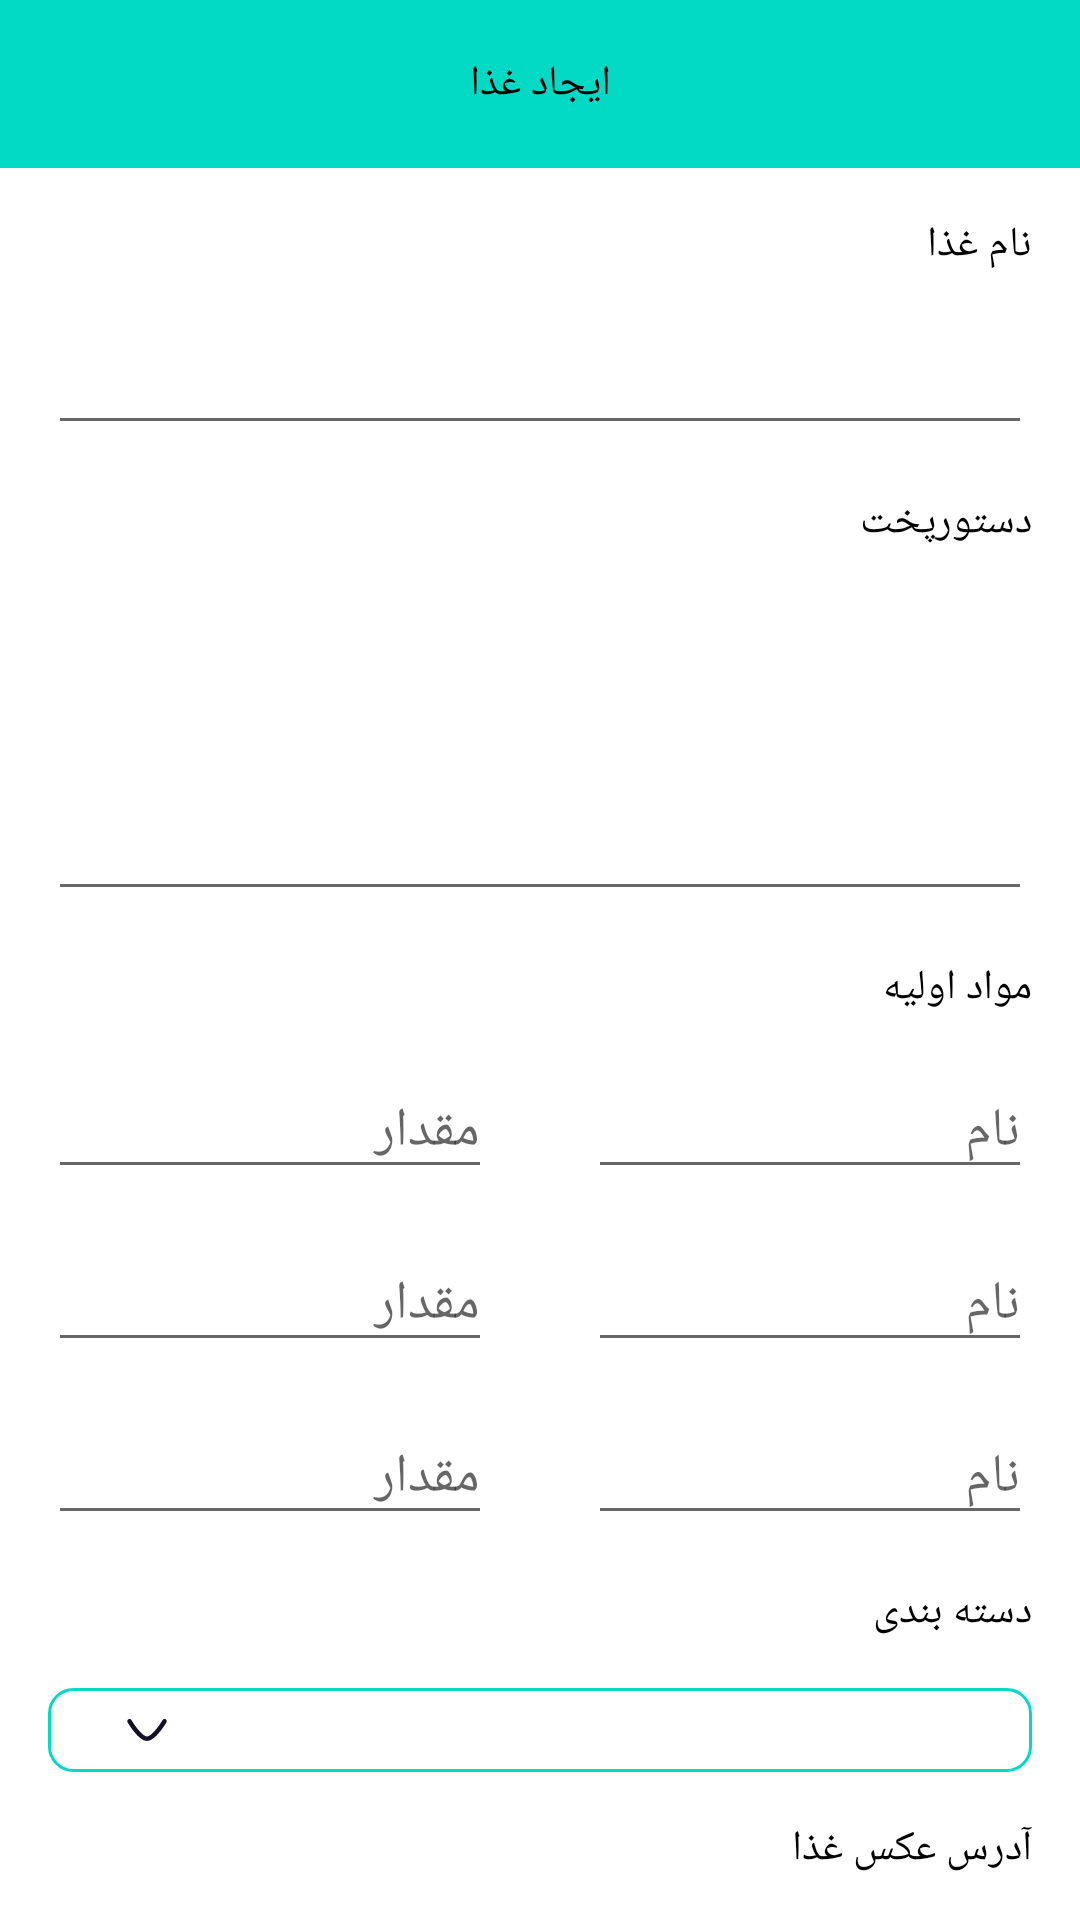

Where to tap for icons on this 1080w x 1920h app screen, as [x,y]:
expand: [147,1730]
